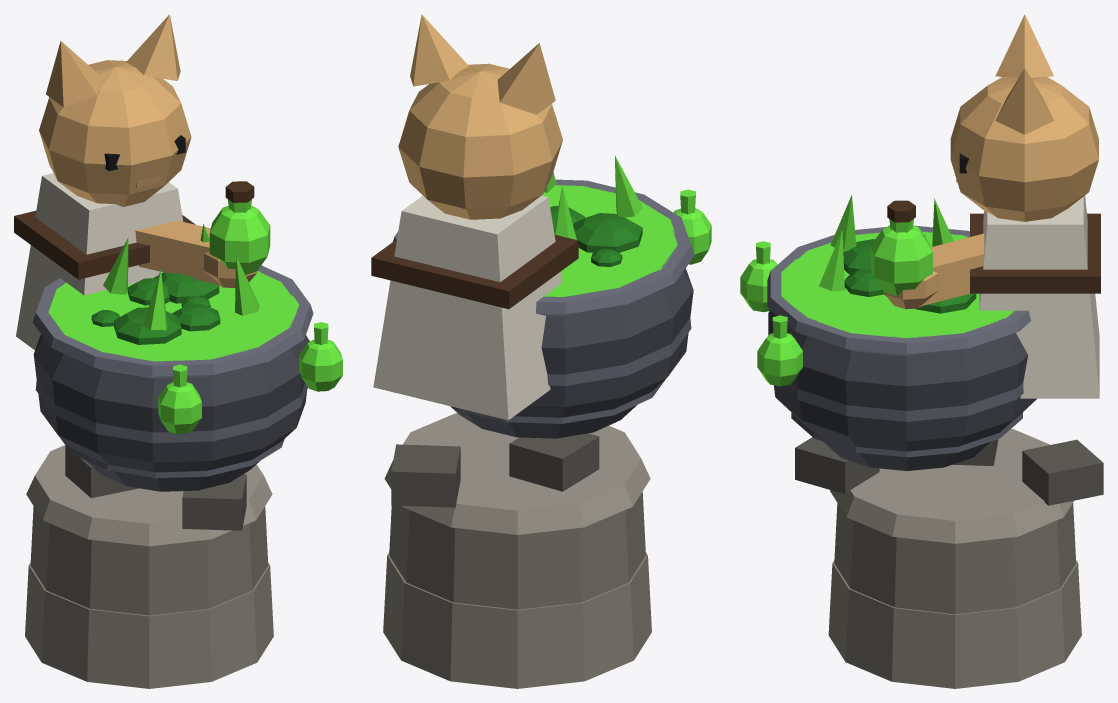
File: tower_poison_l3.glb
The picture shows the model from 3 angles, left to right: view 1: azimuth 30°, elevation 25°; view 2: azimuth 150°, elevation 25°; view 3: azimuth 270°, elevation 25°; orthographic projection. The views are drawn at different scales.
Visible parts, largest first — view 1: Body, Turret; view 2: Body; view 3: Body, Turret.
Boxes of the visible parts, x1,y1,x2,y2 form: Body: (14, 14, 342, 688); Turret: (135, 181, 270, 287); Body: (371, 14, 711, 688); Body: (740, 14, 1103, 688); Turret: (870, 200, 984, 309).
Size of the model in its own units: 0.611 by 1.4 by 0.7739.
